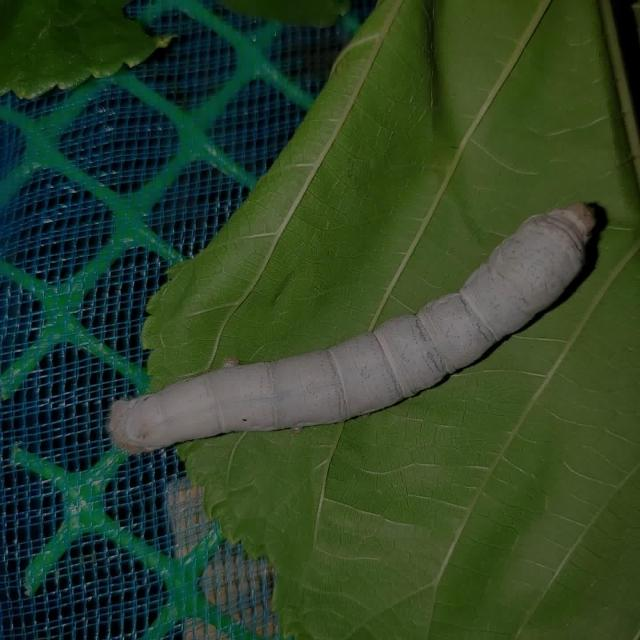Healthy: (98, 197, 602, 451)
